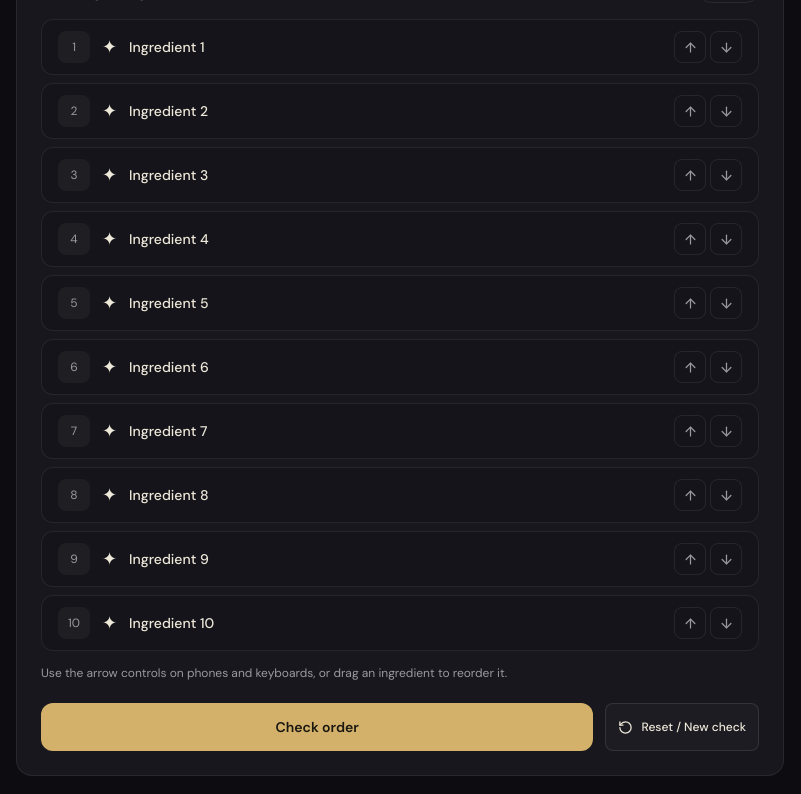
ingredient order checker › shows only INCORRECT for a valid order in the wrong positions
The width and height of the screenshot is (801, 794).
(page scrolled)
Expected: the text "Ingredient 10" is shown, [129, 614, 214, 632]
Click the button "Check order".
click(317, 727)  # box [41, 703, 594, 751]
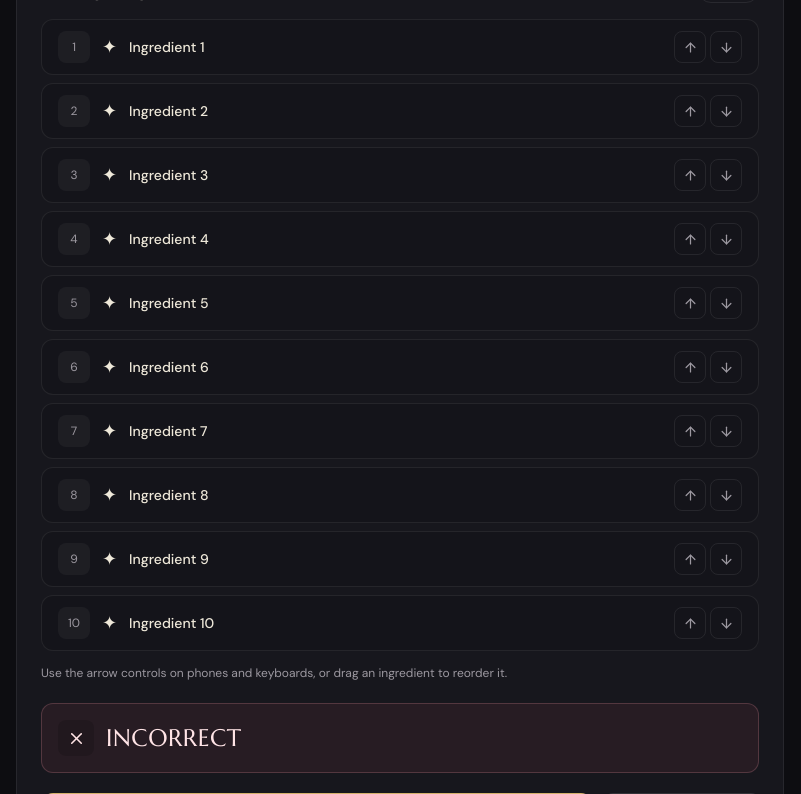
Now the message reads "INCORRECT", box [106, 723, 242, 753]
